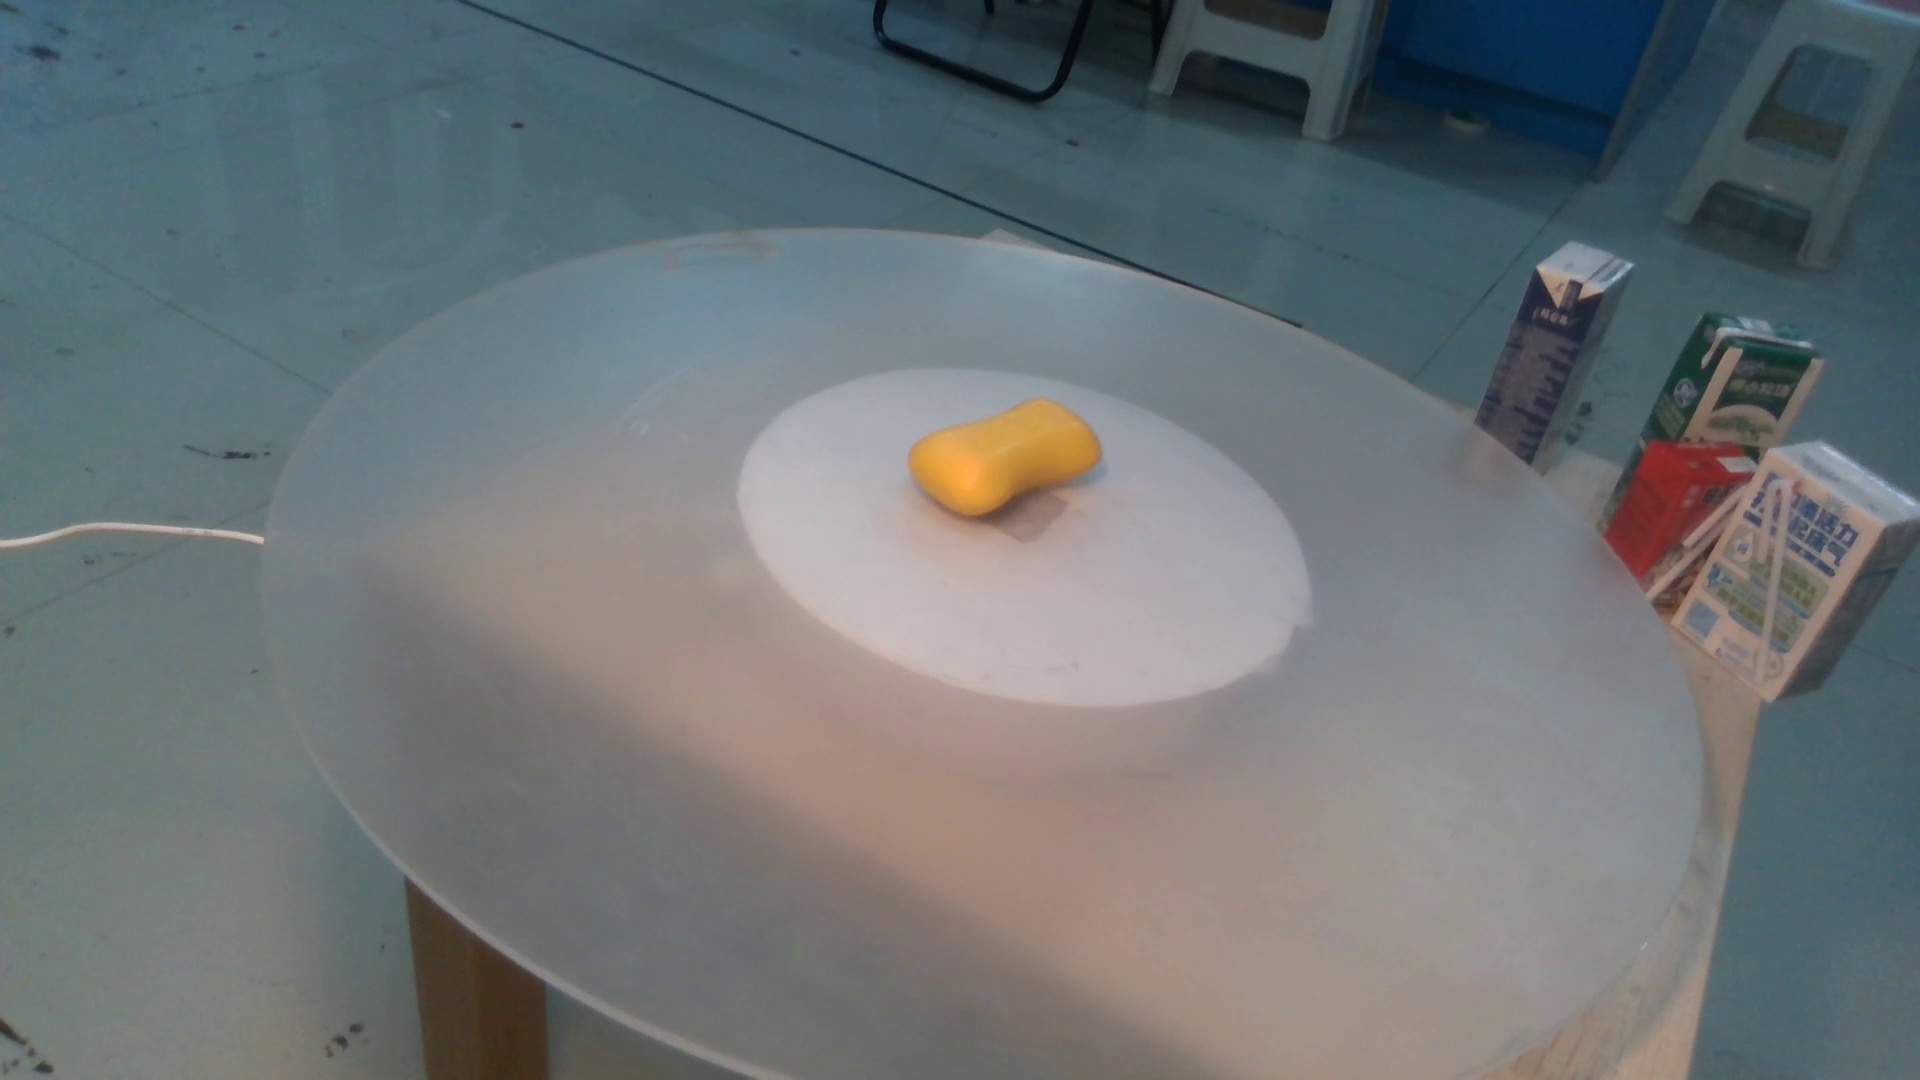CA003_1: (899, 377, 1112, 518)
